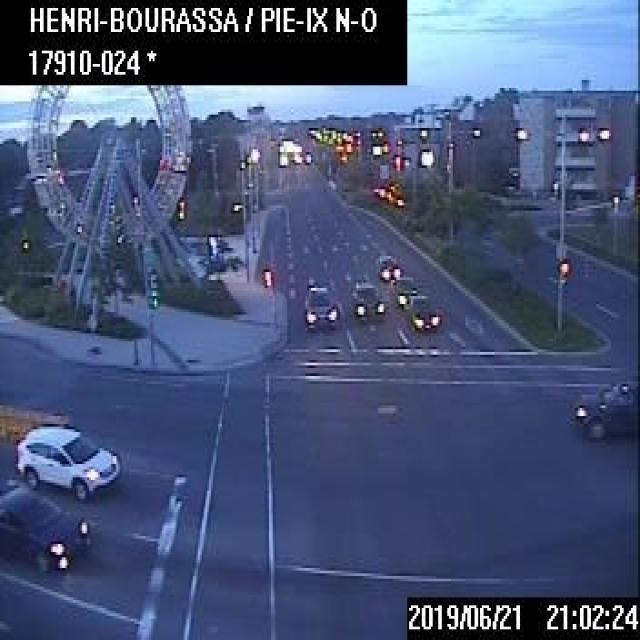vehicle: (15, 424, 118, 496), (0, 485, 87, 570), (569, 379, 638, 437), (348, 280, 385, 320), (303, 284, 336, 326), (407, 296, 440, 331), (389, 275, 417, 307), (375, 253, 400, 278), (278, 154, 286, 166)
